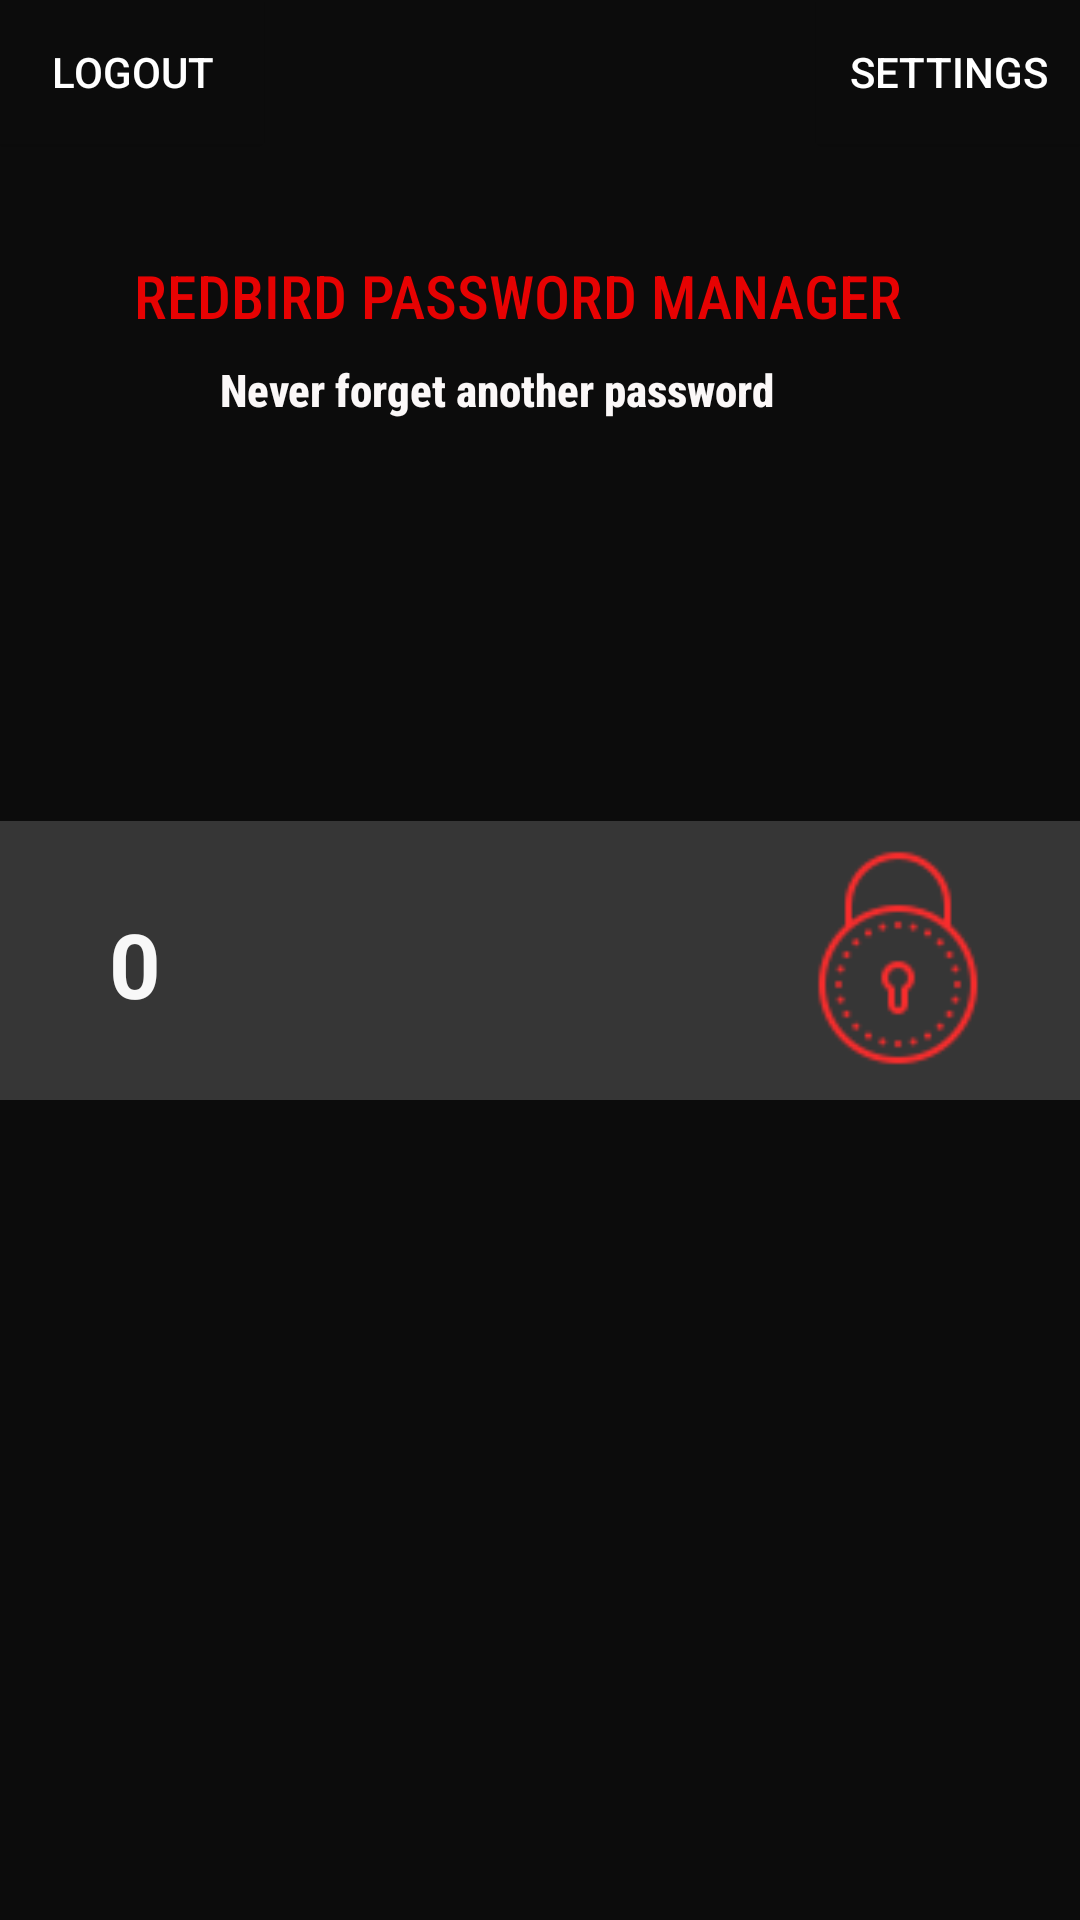

Icon click points for this 1080x1920 phone screenshot, format [x,y]:
lock: [898,958]
